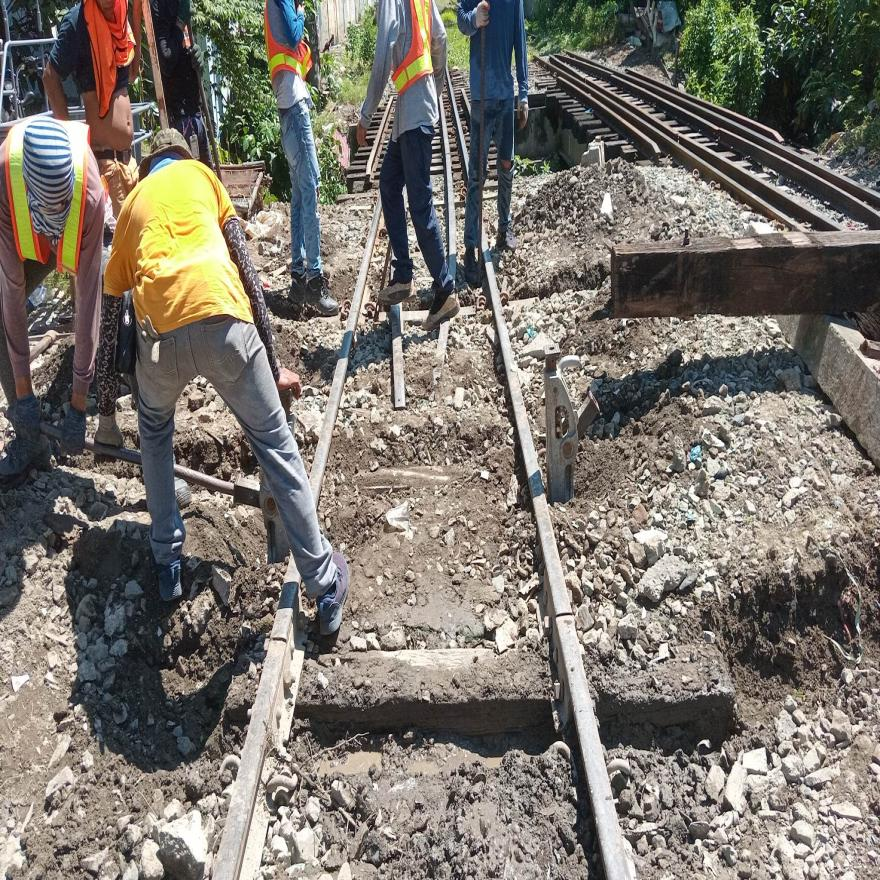railway-gap: (539, 581, 586, 656), (256, 599, 298, 673)
